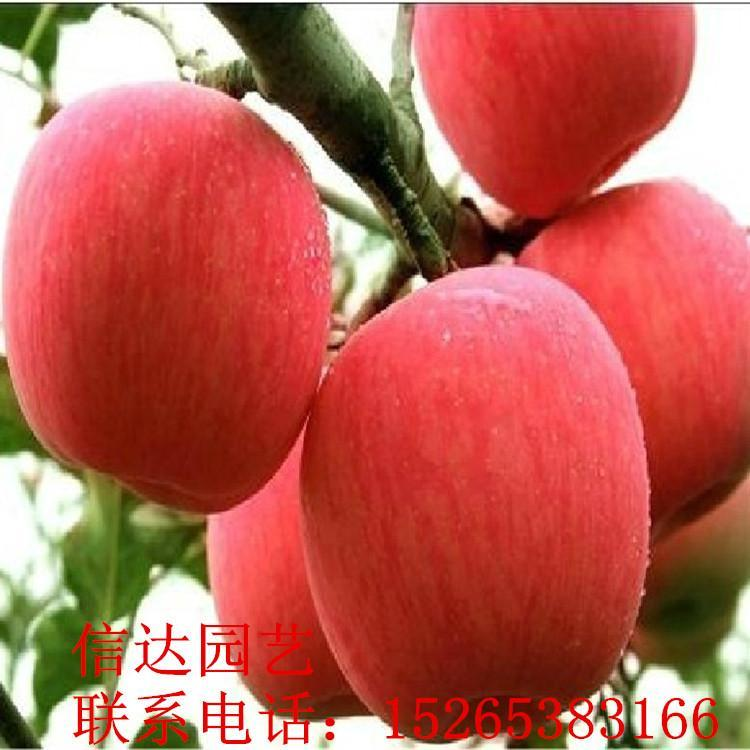apple: (290, 263, 656, 741), (1, 77, 329, 510), (514, 178, 750, 546), (409, 5, 694, 221), (207, 372, 377, 719)
